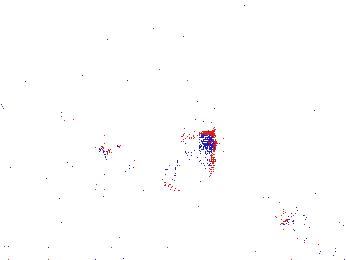flame jellyfish: (153, 129, 217, 193), (273, 173, 346, 229), (88, 143, 140, 208)
